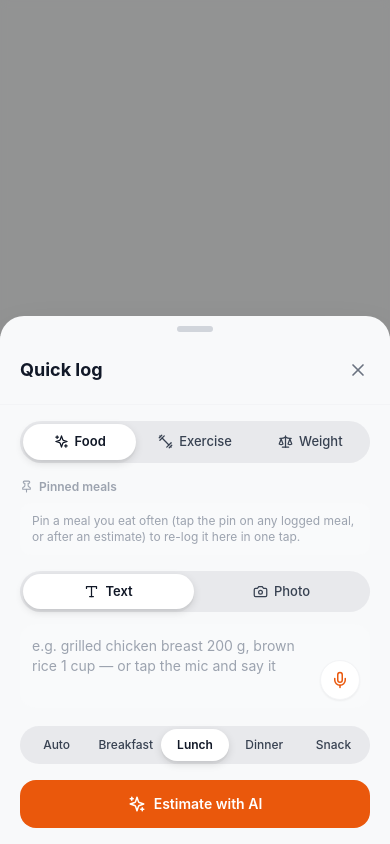
Test case: LogModal voice input › explains when the microphone is blocked
Click the button named "Speak your meal" at (340, 680), box [320,660,360,700]
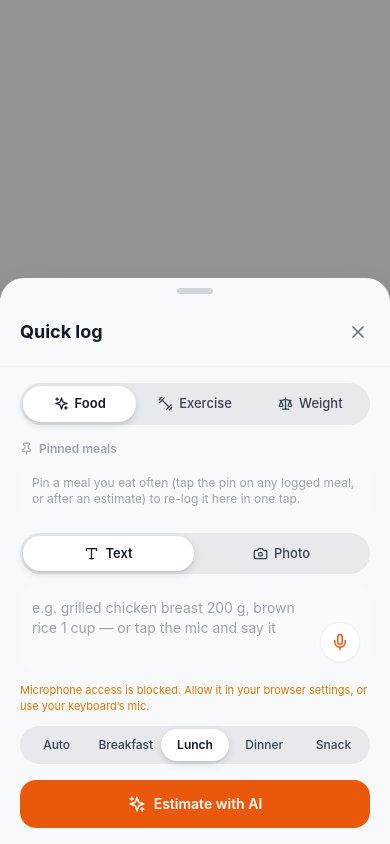
Now the text "Microphone access is blocked" is shown, box [20,683,367,713]
